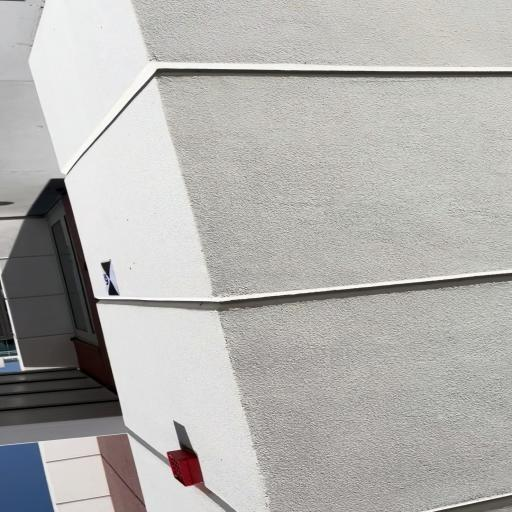target6: (99, 260, 119, 296)
